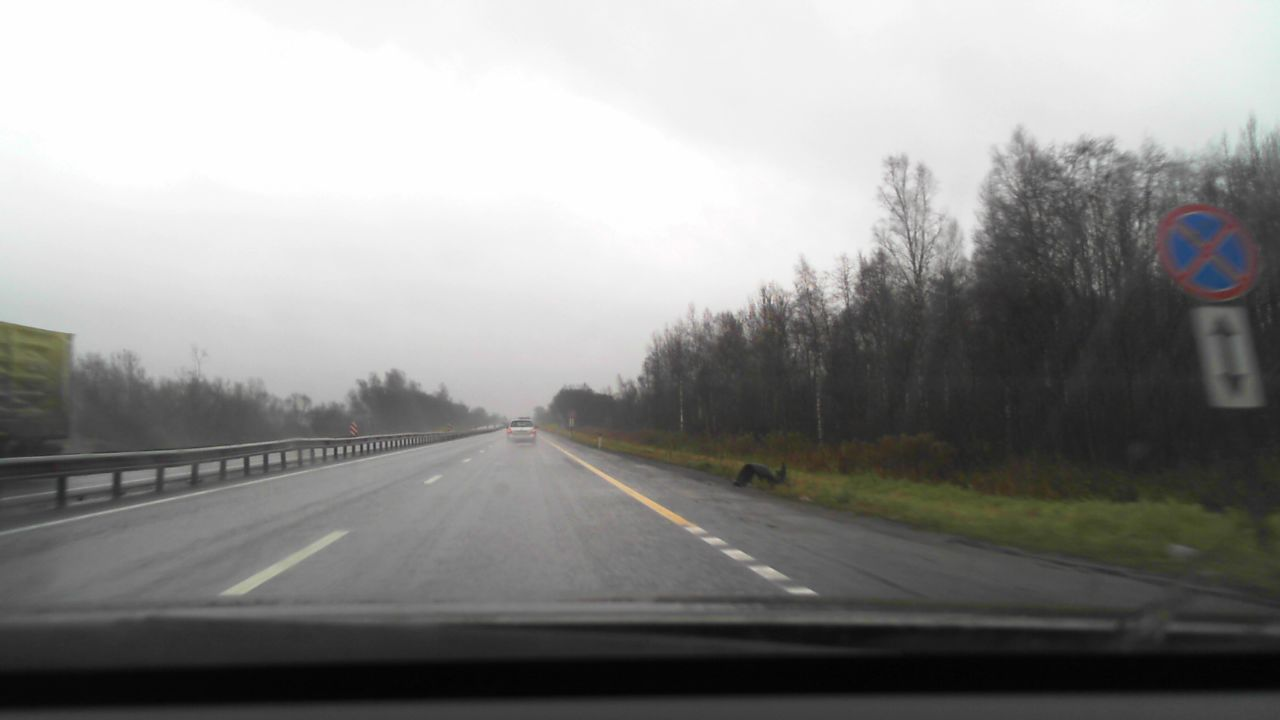No Parking: (1157, 204, 1262, 303)
